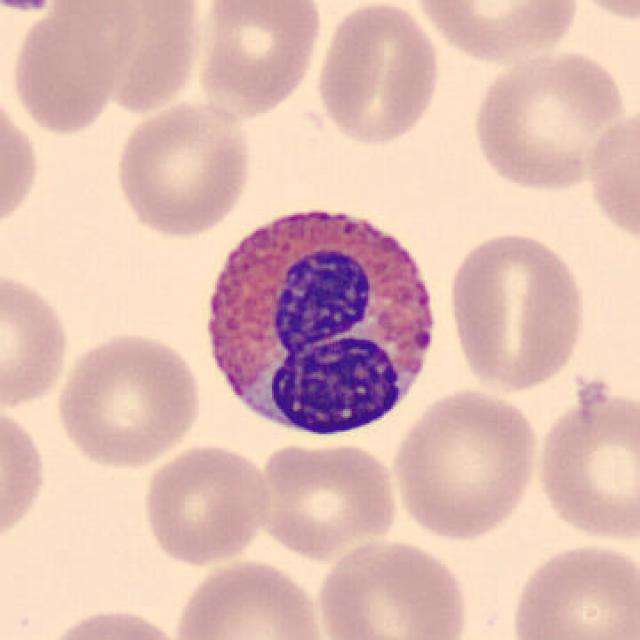Eosinophil: (190, 194, 452, 448)
Platelets: (4, 0, 58, 16)
RBC: (443, 227, 590, 397), (388, 386, 544, 543), (466, 46, 631, 194), (52, 328, 205, 471), (110, 97, 256, 240), (311, 0, 445, 150), (252, 436, 402, 560), (7, 0, 139, 138), (59, 0, 210, 120), (138, 440, 274, 568), (311, 534, 473, 640), (532, 384, 638, 545), (192, 0, 325, 120), (504, 537, 638, 640), (169, 555, 329, 640), (409, 0, 583, 65), (0, 266, 73, 413), (582, 100, 638, 254), (0, 400, 50, 552), (0, 84, 44, 238), (39, 604, 186, 640), (556, 0, 640, 25)
